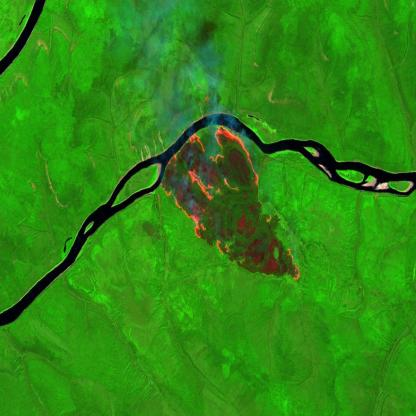fire: (158, 123, 302, 282)
